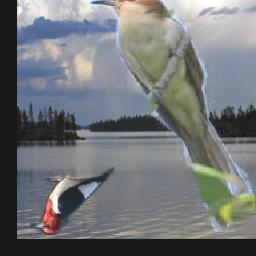Cuckoo: (89, 0, 255, 233)
Woodpecker: (29, 165, 115, 235)
